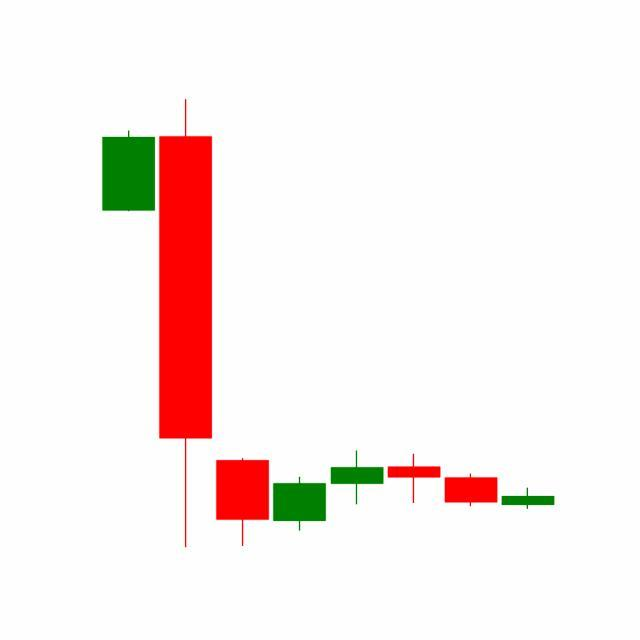Hikkake Pattern: (214, 450, 501, 548)
